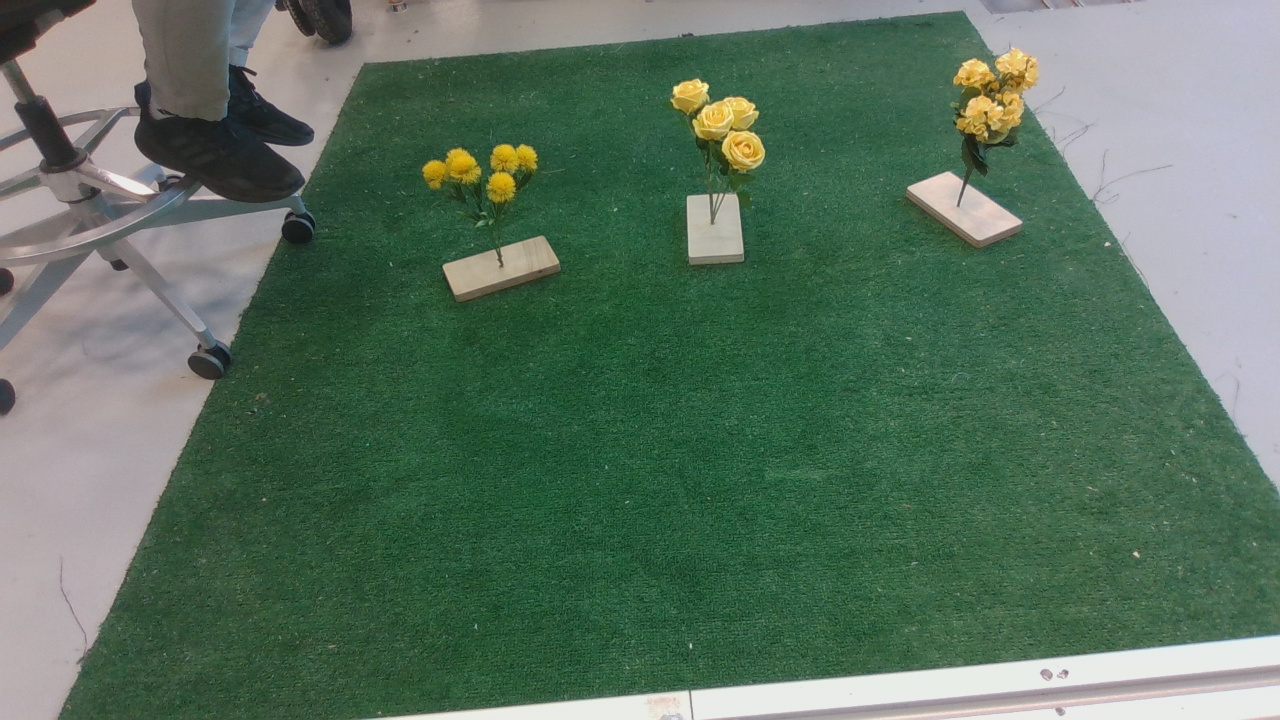dandelion: (419, 143, 553, 232)
geranium: (954, 36, 1047, 182)
rose: (666, 74, 776, 201)
